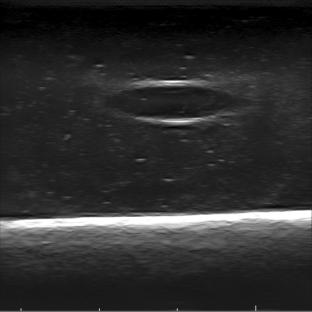vessel: (106, 79, 240, 125)
